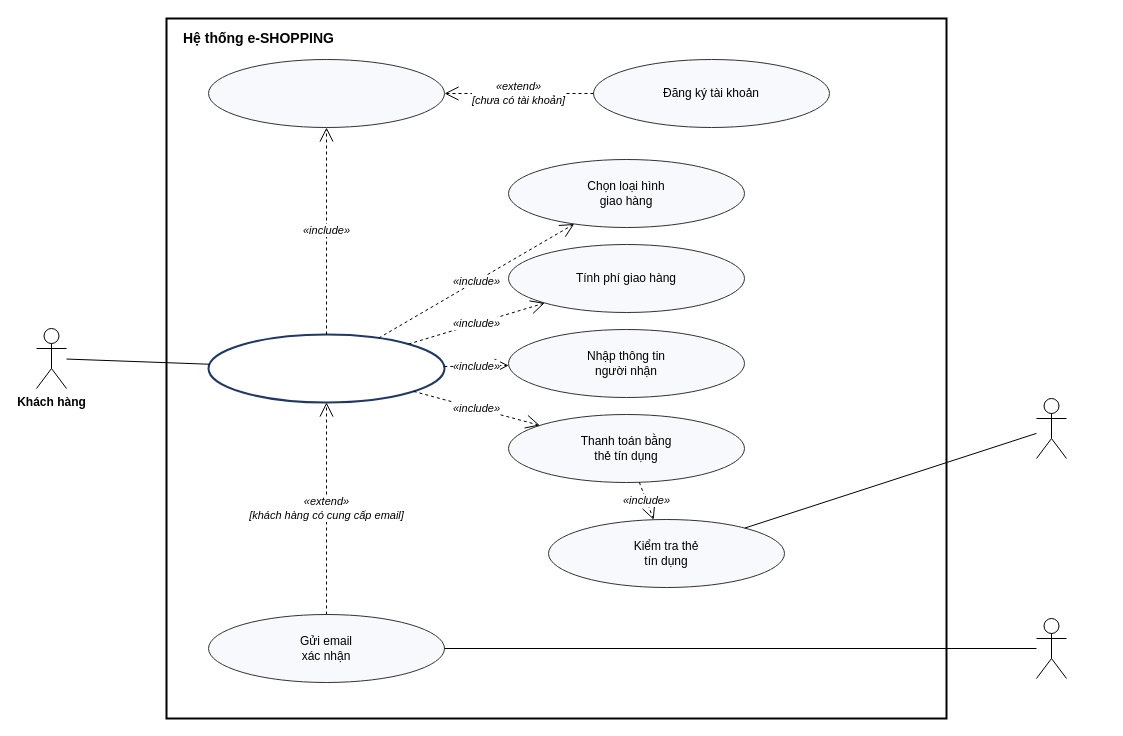
Image size: 1123x736. Some labels were removed from this diagram. The shapes that lost their labels are listed below. From the top down, each one's box as (x1, y1, x2, y2) in pixels, then its label:
(208, 58, 444, 128): Đăng nhập
(207, 333, 445, 403): Đặt hàng và thanh toán
(1036, 398, 1066, 458): «external system» Dịch vụ thanh toán trực tuyến
(1036, 618, 1066, 678): «external system» Dịch vụ email
